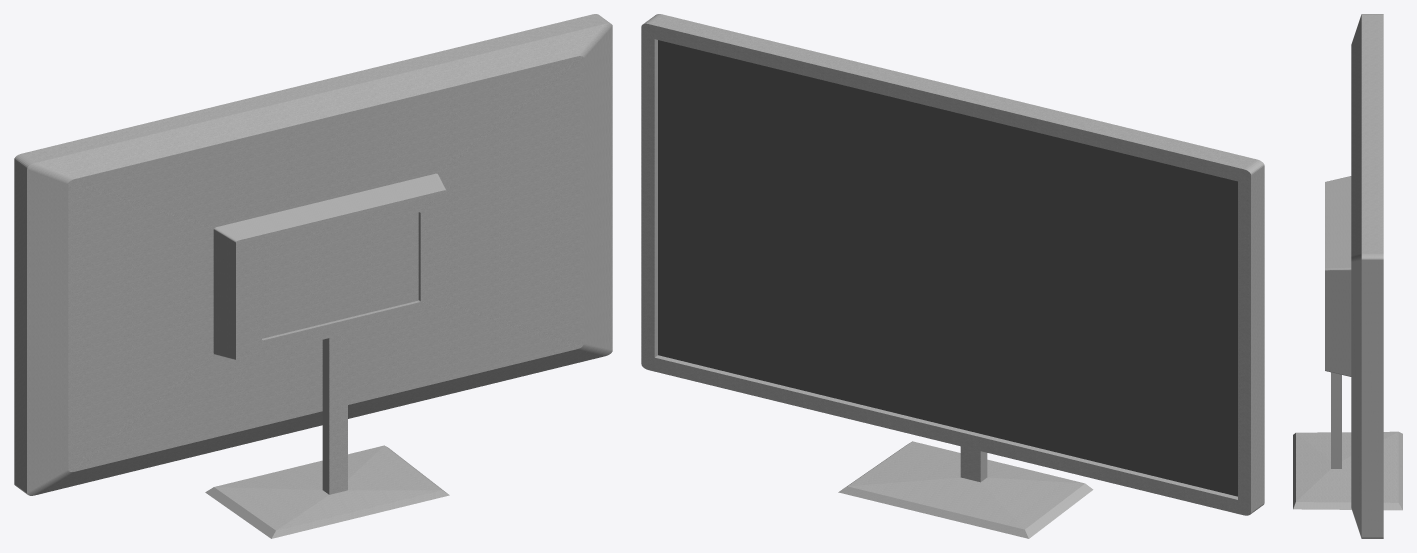
File: screen-00000.glb
3 views of the same model, side by side, from view 1: azimuth 30°, elevation 25°; view 2: azimuth 150°, elevation 25°; view 3: azimuth 270°, elevation 25° (orthographic). The views are drawn at different scales.
Visible parts, largest first — view 1: Cube.001; view 2: Cube.001; view 3: Cube.001.
Boxes of the visible parts, bbox=[...] form: Cube.001: bbox=[14, 14, 612, 538]; Cube.001: bbox=[641, 14, 1264, 538]; Cube.001: bbox=[1293, 14, 1402, 538].
Size of the model in its own units: 0.6503 by 0.4187 by 0.1234.
2 materials, 1 textured.
